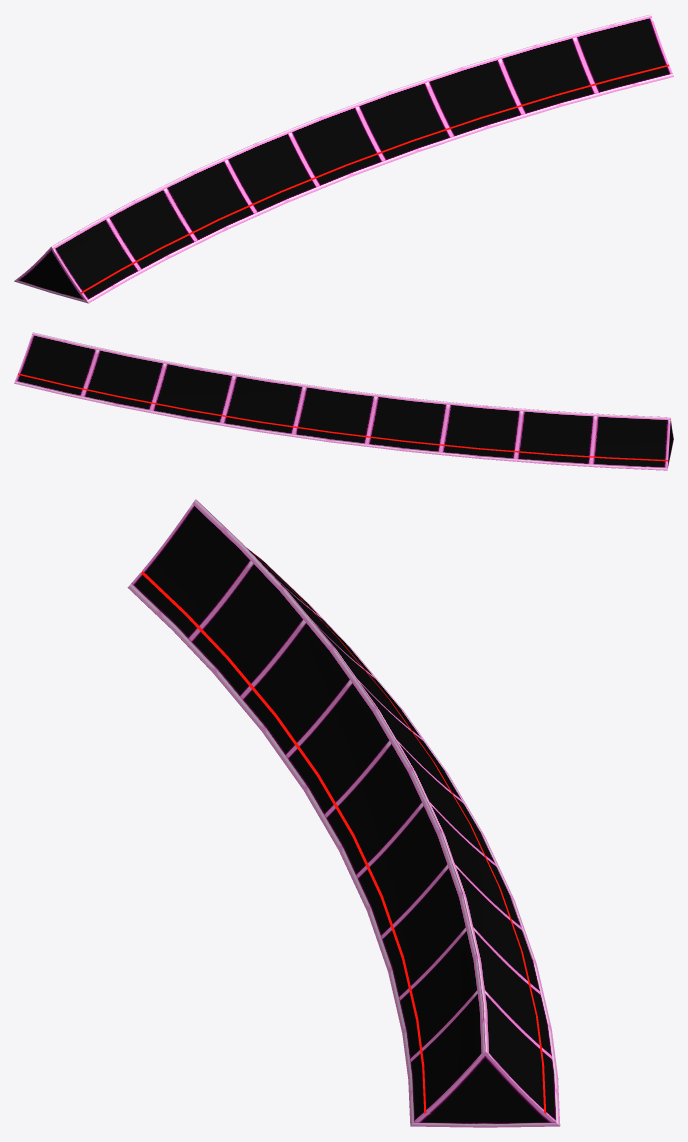
File: Platform-2-experiment.fbx
The picture shows the model from 3 angles, top to bottom: view 1: azimuth 30°, elevation 25°; view 2: azimuth 150°, elevation 25°; view 3: azimuth 270°, elevation 25°; orthographic projection. The views are drawn at different scales.
Parts seen in each view (by area): view 1: ramp.007; view 2: ramp.007; view 3: ramp.007.
Part boxes in pixels (box(x1,y1,x2,y2)): ramp.007: box(14, 14, 673, 303); ramp.007: box(14, 332, 673, 470); ramp.007: box(127, 499, 560, 1127).
Bounding box in the file's own units: 3267 × 206 × 1056.
